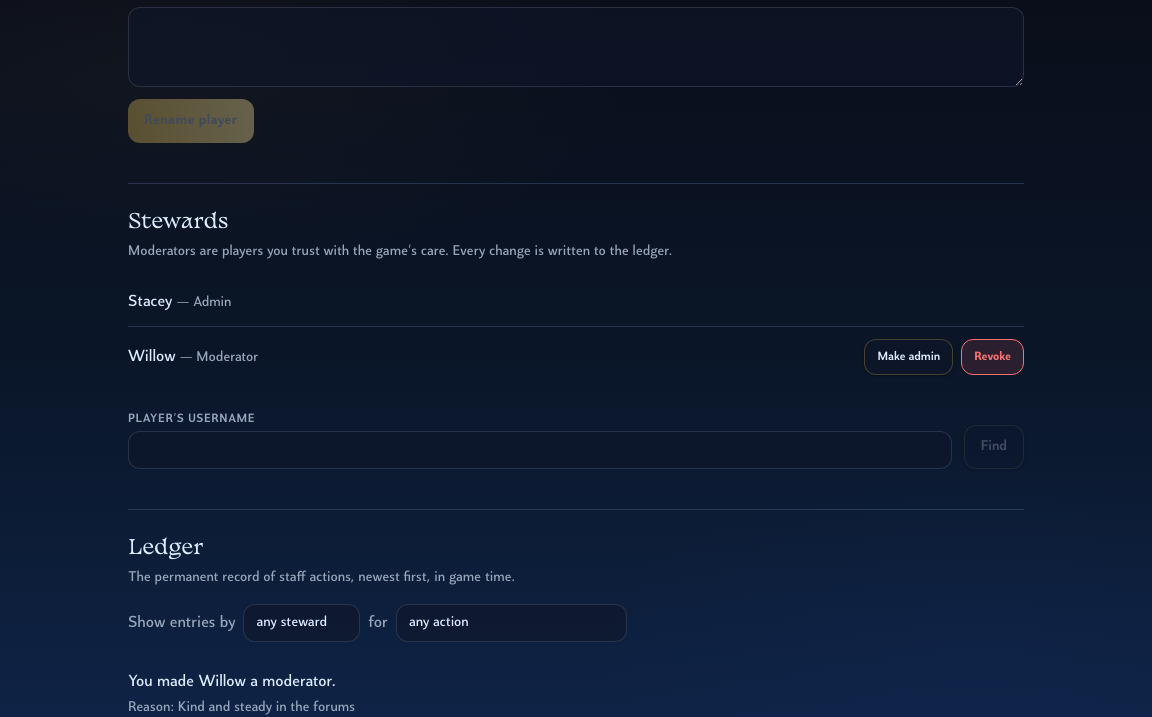
The Steward's Office › a failed role change shows an inline error and keeps the typed reason
(page scrolled)
Click the button with aria-label "Revoke Willow": (993, 357) [961, 339, 1024, 375]
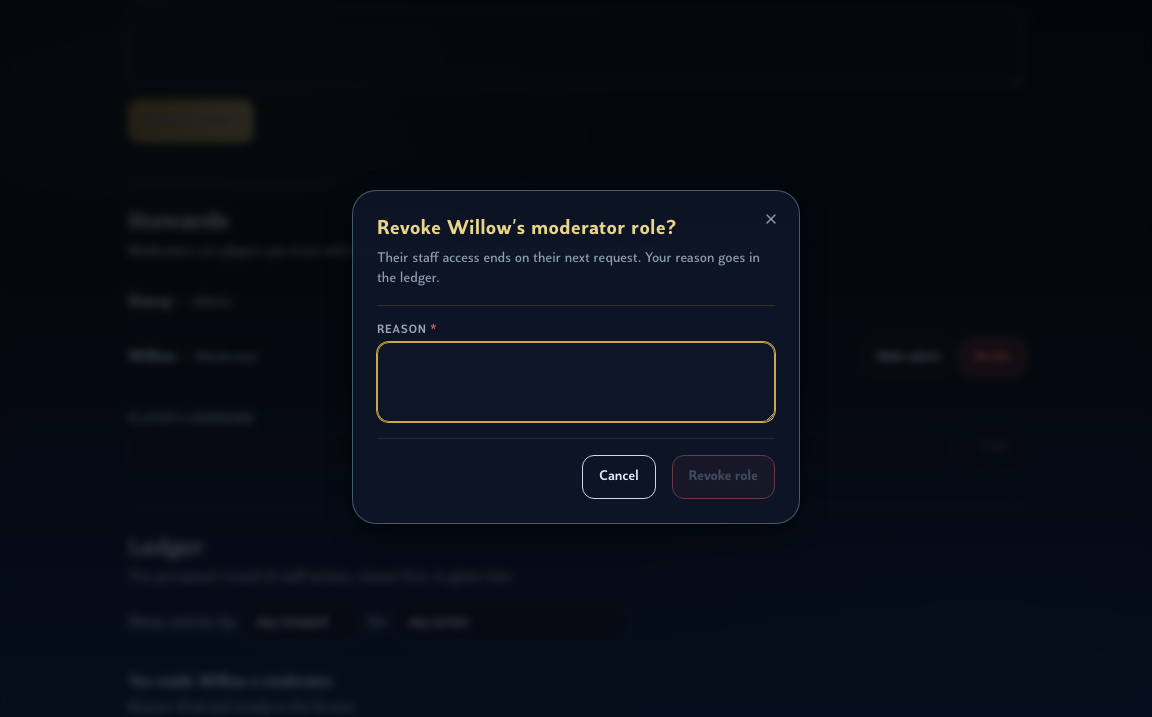
In the text box labelled "Reason *": (576, 382) [377, 342, 775, 422], type "Stepped away"
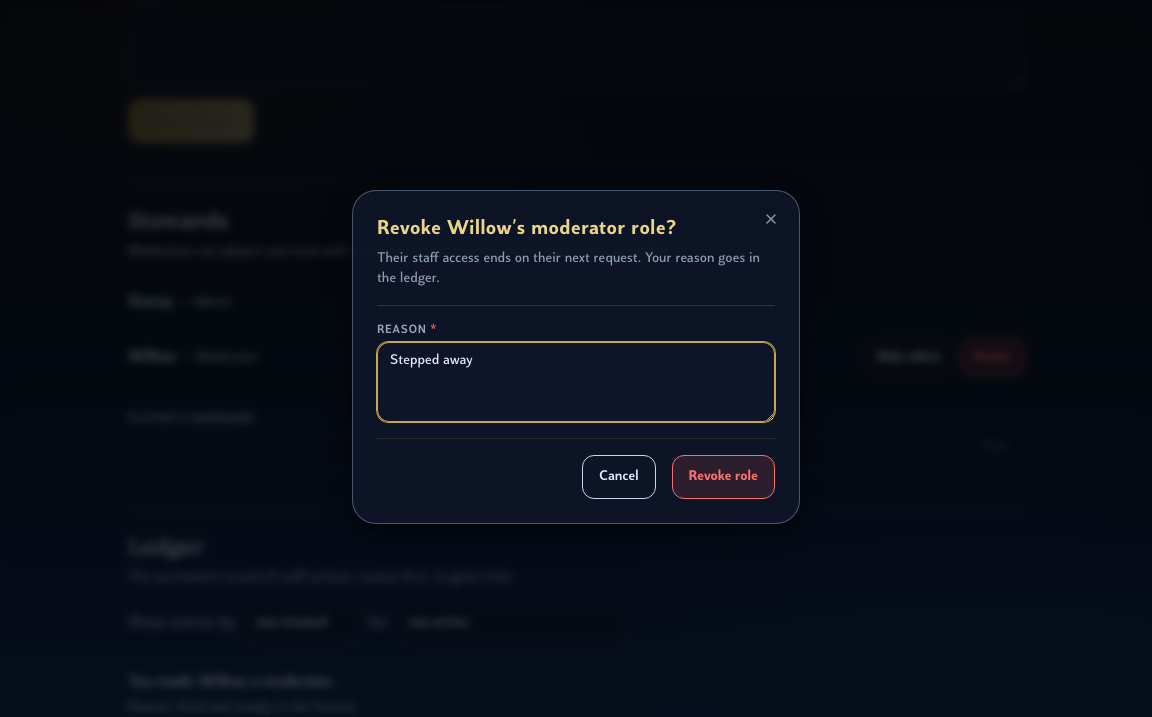
Click the button "Revoke role": (723, 477) [672, 455, 775, 499]
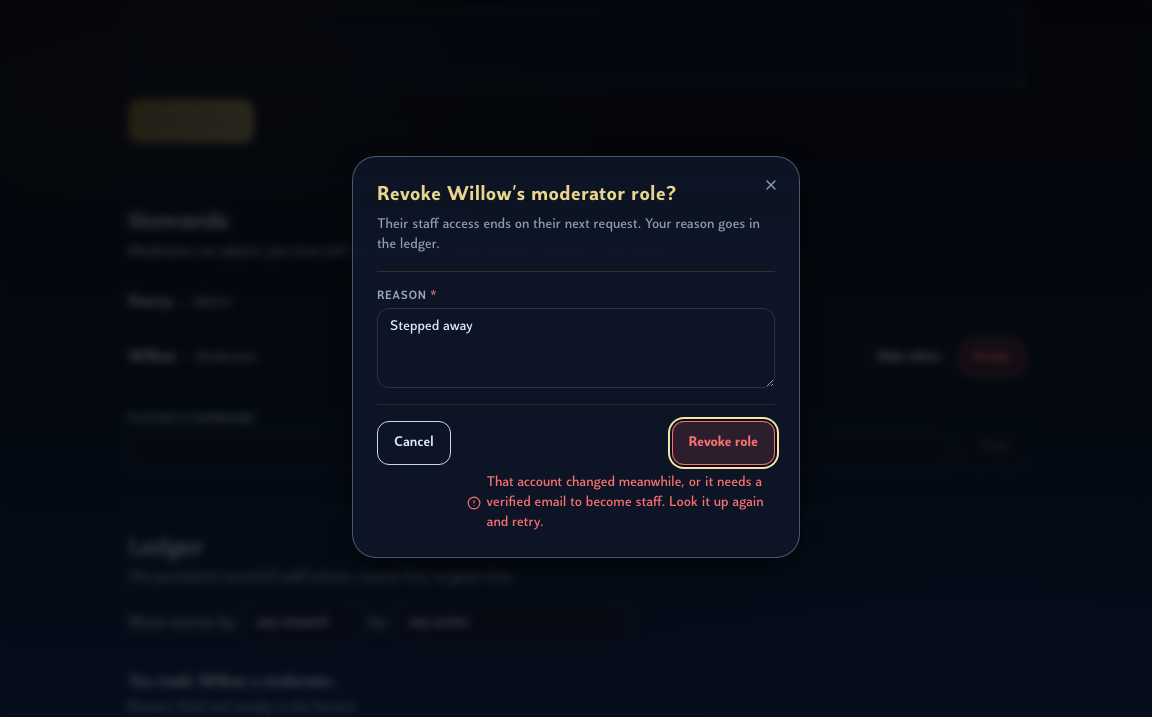
expect the message shows "changed meanwhile": met, box [487, 475, 764, 530]
